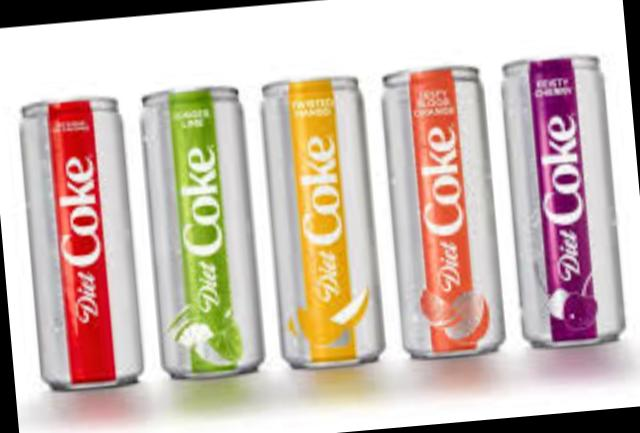metal: (15, 94, 137, 385), (377, 63, 499, 353), (498, 55, 619, 341), (260, 76, 377, 363), (140, 87, 257, 373)
